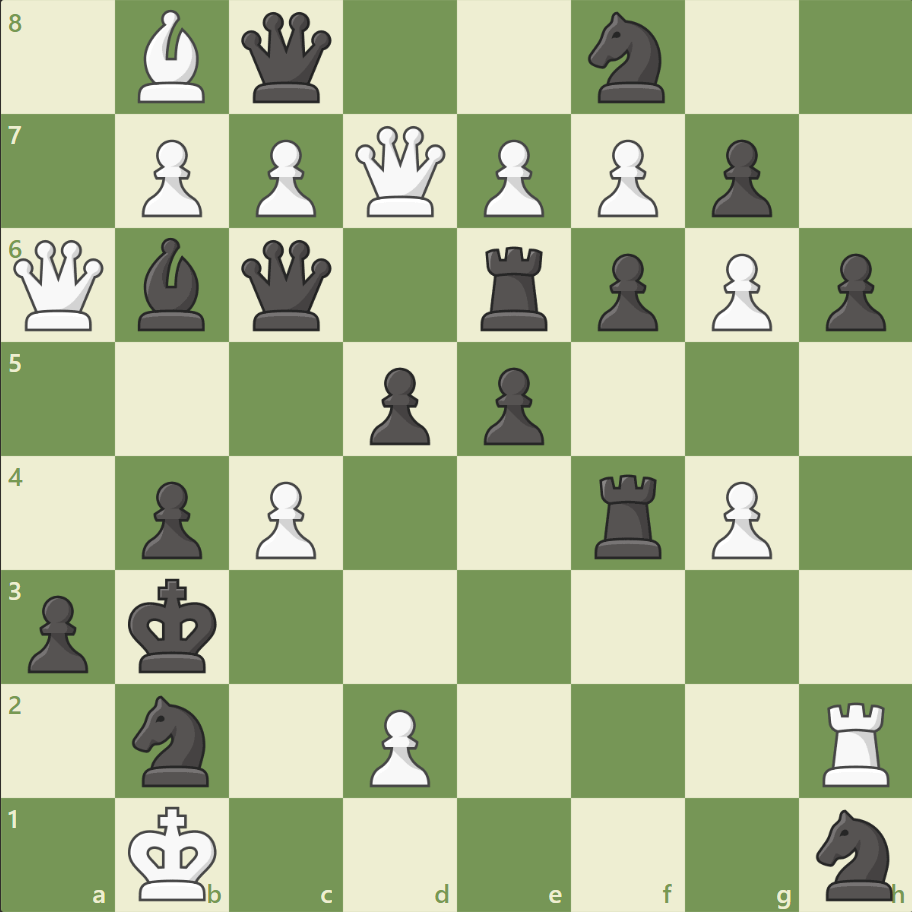B: (131, 6, 215, 109)
K: (124, 798, 224, 906)
P: (133, 132, 208, 223), (247, 132, 322, 223), (474, 132, 549, 223), (701, 246, 776, 337), (247, 473, 322, 564), (701, 473, 776, 564), (588, 132, 662, 223), (361, 700, 435, 791)
Q: (351, 122, 450, 222), (10, 236, 109, 335)
R: (814, 693, 897, 790)
b: (131, 233, 215, 336)
k: (124, 571, 224, 679)
n: (124, 688, 222, 791), (579, 7, 676, 110), (806, 802, 903, 904)
p: (701, 132, 776, 223), (474, 359, 549, 450), (133, 473, 208, 564), (20, 586, 95, 677), (588, 246, 662, 337), (815, 246, 889, 337), (361, 359, 435, 450)
q: (237, 9, 336, 108), (237, 236, 336, 335)
r: (473, 239, 556, 336), (587, 466, 670, 563)
